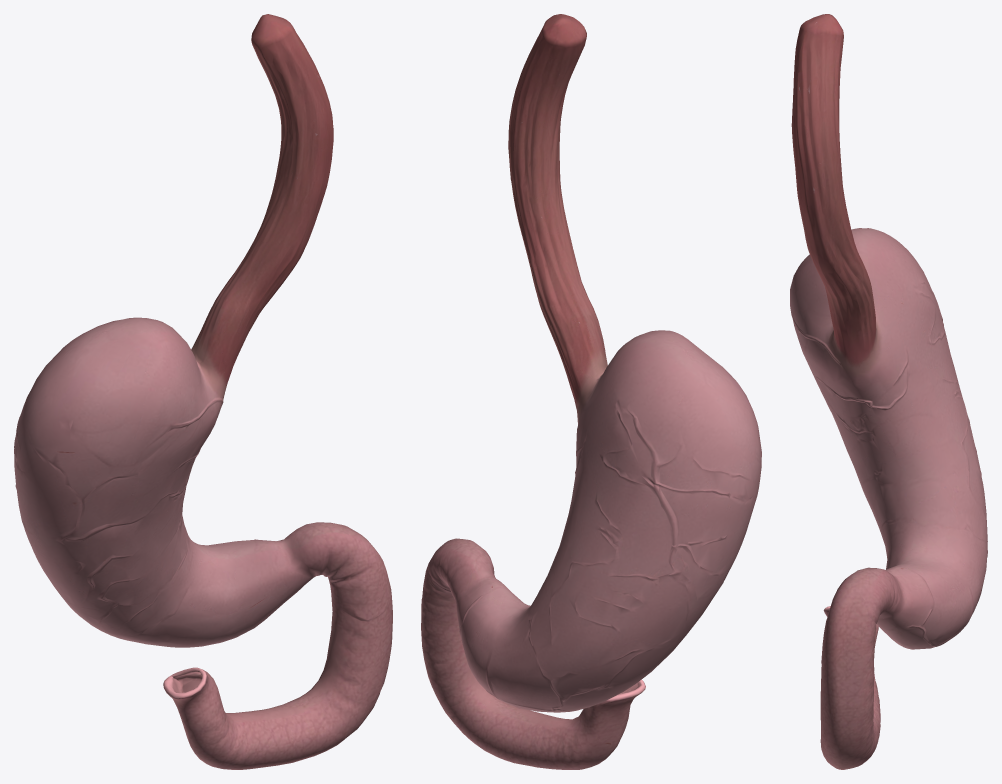
Rendered from meshopt-lod-v1-fd6070f0482b.glb.
The picture shows the model from 3 angles, left to right: view 1: azimuth 30°, elevation 25°; view 2: azimuth 150°, elevation 25°; view 3: azimuth 270°, elevation 25°; orthographic projection. The views are drawn at different scales.
Size of the model in its own units: 0.9155 by 1.9 by 0.4677.
Materials: 1 (1 with a texture image).
